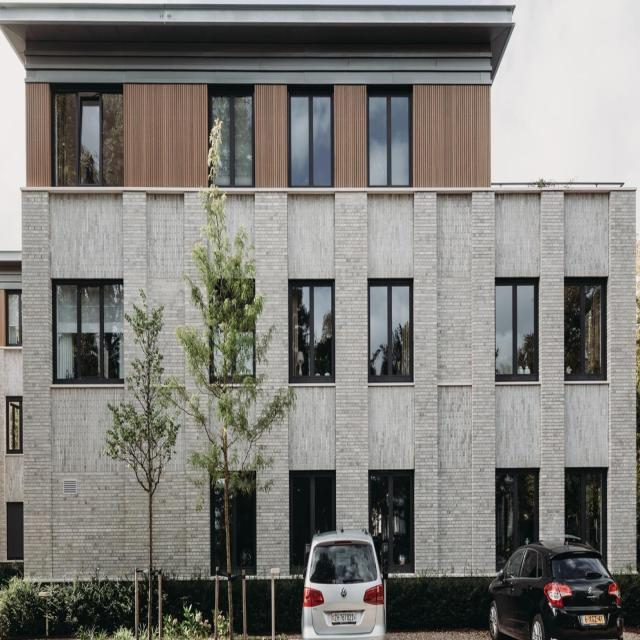door: (10, 499, 26, 556)
plant: (168, 111, 294, 499), (104, 301, 179, 499)
wall: (0, 5, 637, 583)
windows: (58, 280, 126, 382), (54, 89, 124, 182), (291, 474, 337, 576), (290, 284, 335, 378), (371, 474, 413, 574), (216, 477, 258, 573), (215, 284, 258, 377), (370, 284, 411, 376), (567, 277, 605, 376), (499, 468, 538, 564), (497, 281, 538, 371), (214, 90, 254, 182), (293, 91, 333, 183), (372, 92, 412, 183), (568, 467, 604, 552), (10, 289, 25, 343), (11, 397, 22, 448)
